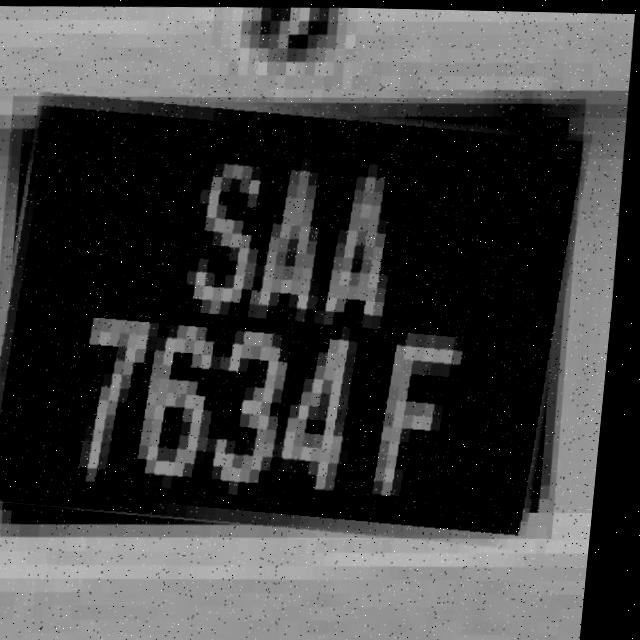LicensePlate: (0, 85, 596, 546)
